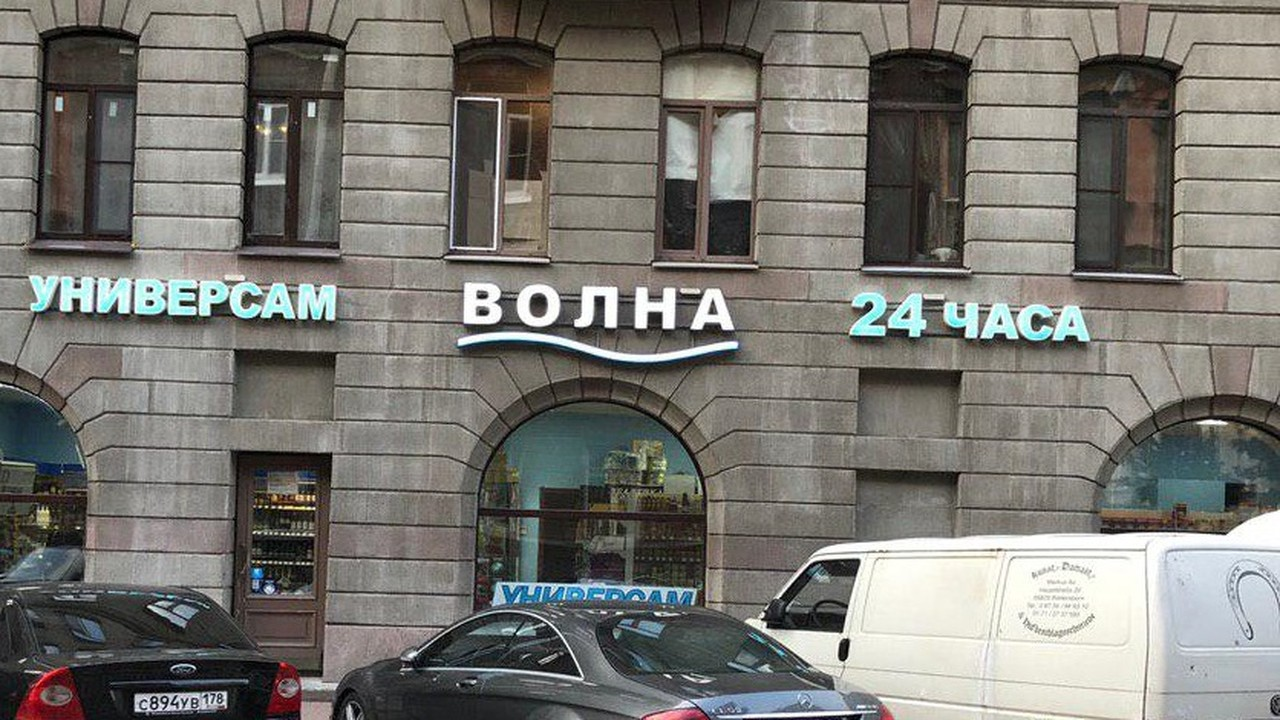door: (237, 451, 325, 678)
signboard: (457, 282, 742, 363), (27, 274, 340, 322), (852, 291, 1087, 339)
window: (476, 390, 705, 610), (863, 52, 972, 264), (31, 31, 138, 243), (657, 46, 762, 261), (1076, 57, 1179, 274), (453, 37, 554, 253), (242, 32, 343, 244)
